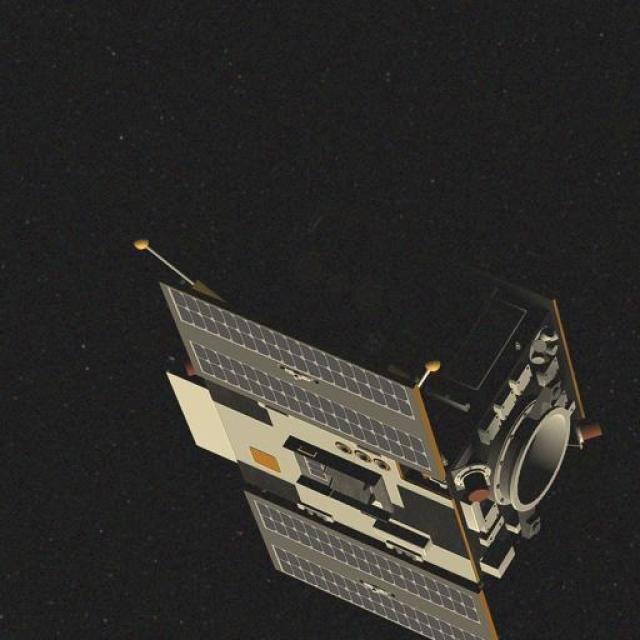proba_2: (158, 230, 572, 640)
